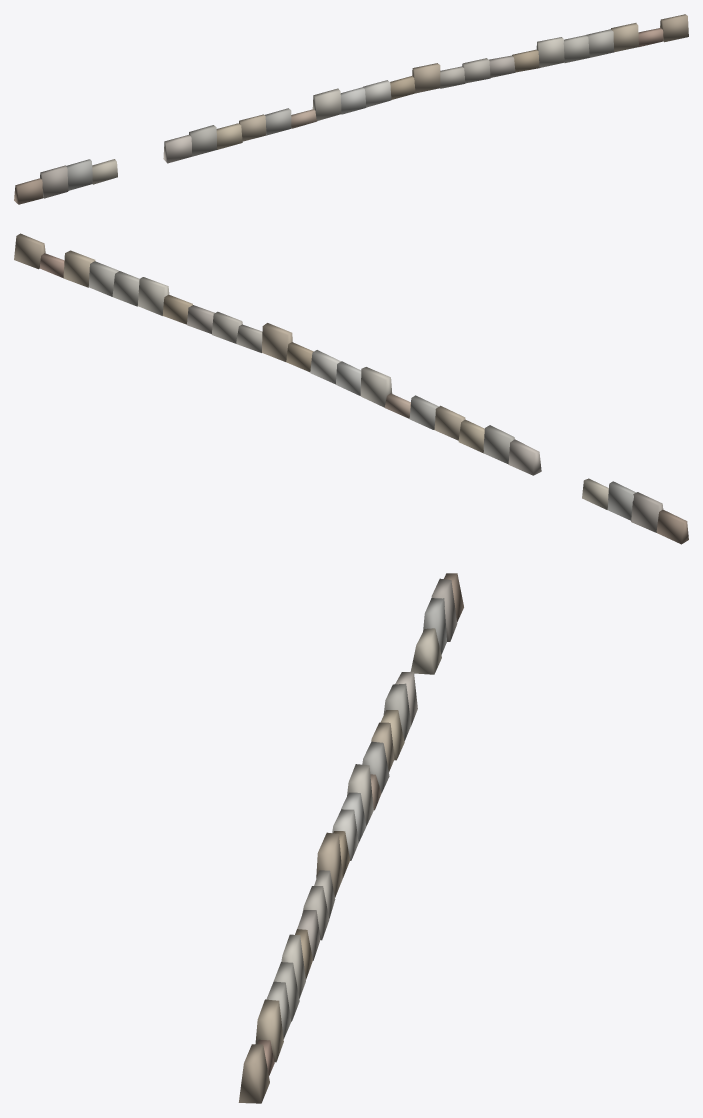
Rendered from farm_31_23_far.glb.
The picture shows the model from 3 angles, top to bottom: view 1: azimuth 30°, elevation 25°; view 2: azimuth 150°, elevation 25°; view 3: azimuth 270°, elevation 25°; orthographic projection. The views are drawn at different scales.
Parts seen in each view (by area): view 1: geometry_0; view 2: geometry_0; view 3: geometry_0.
Part boxes in pixels (x1,y1,x2,y2): geometry_0: (14,14,688,204); geometry_0: (14,233,688,544); geometry_0: (238,573,463,1103).
Size of the model in its own units: 42.22 by 4.81 by 6.64.
